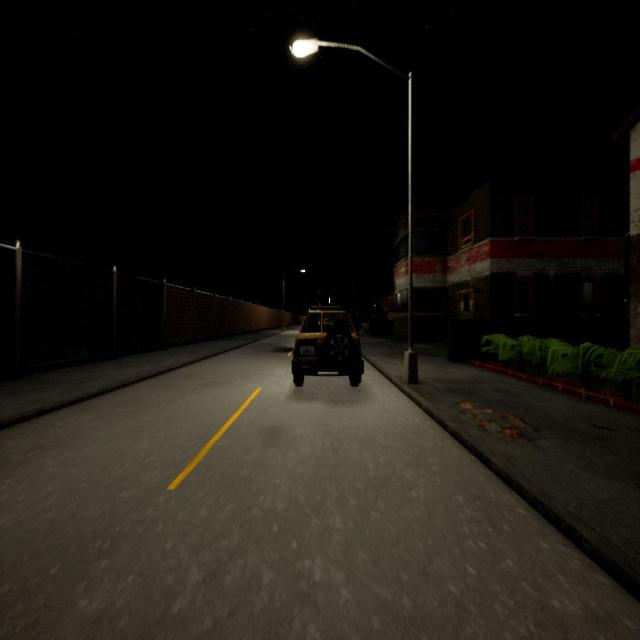Vehicle: (292, 306, 364, 386)
